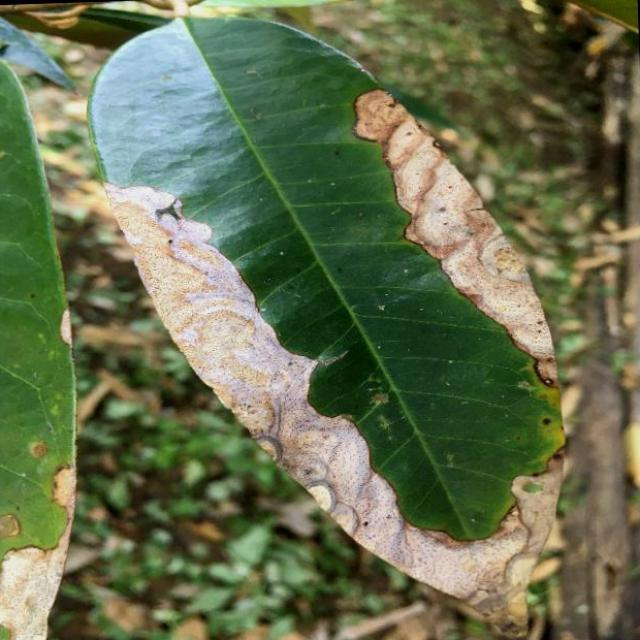Leaf Blight: (76, 0, 576, 640)
